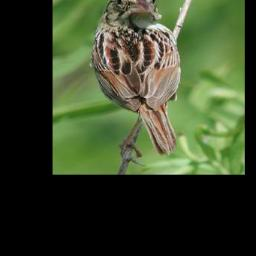Sparrow: (89, 0, 179, 167)
